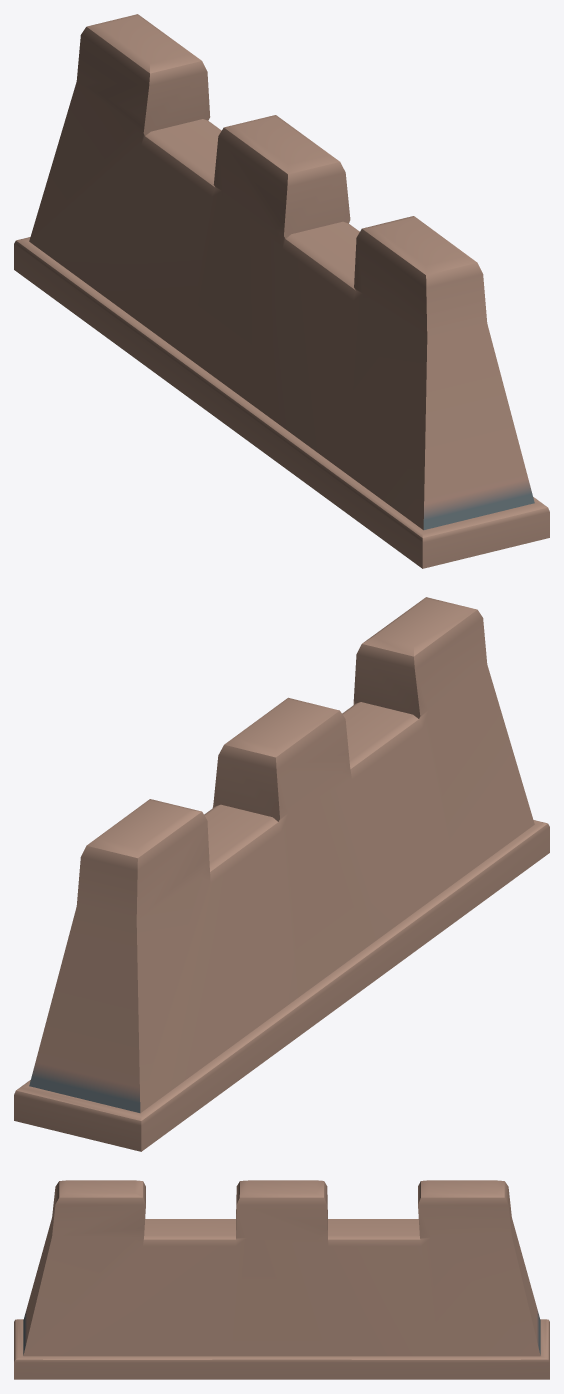
Rendered from Barricade_01.fbx.
3 renders of one model, top to bottom at view 1: azimuth 30°, elevation 25°; view 2: azimuth 150°, elevation 25°; view 3: azimuth 270°, elevation 25°, orthographic. The views are drawn at different scales.
Parts seen in each view (by area): view 1: pCube126; view 2: pCube126; view 3: pCube126.
Part boxes in pixels (left/top/right/bottom): pCube126: left=14, top=14, right=549, bottom=568; pCube126: left=14, top=597, right=549, bottom=1151; pCube126: left=14, top=1180, right=549, bottom=1379.
Bounding box in the file's own units: 0.2784 × 0.5495 × 1.55.
1 material, 1 textured.
